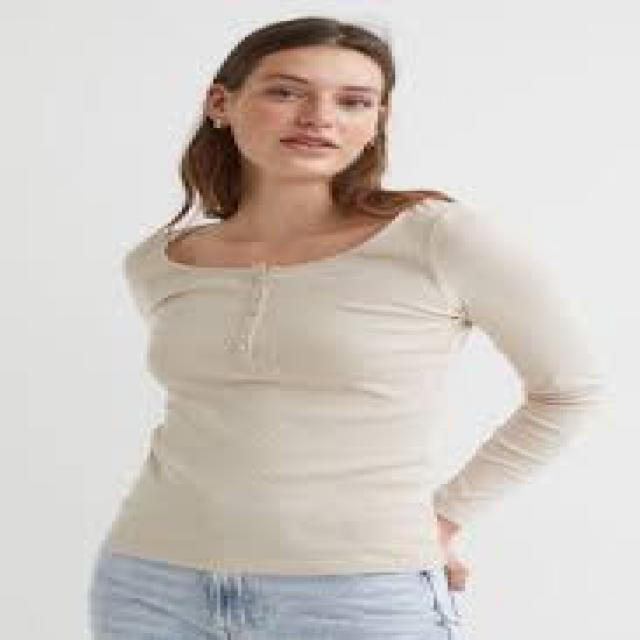plain: (86, 197, 630, 569)
